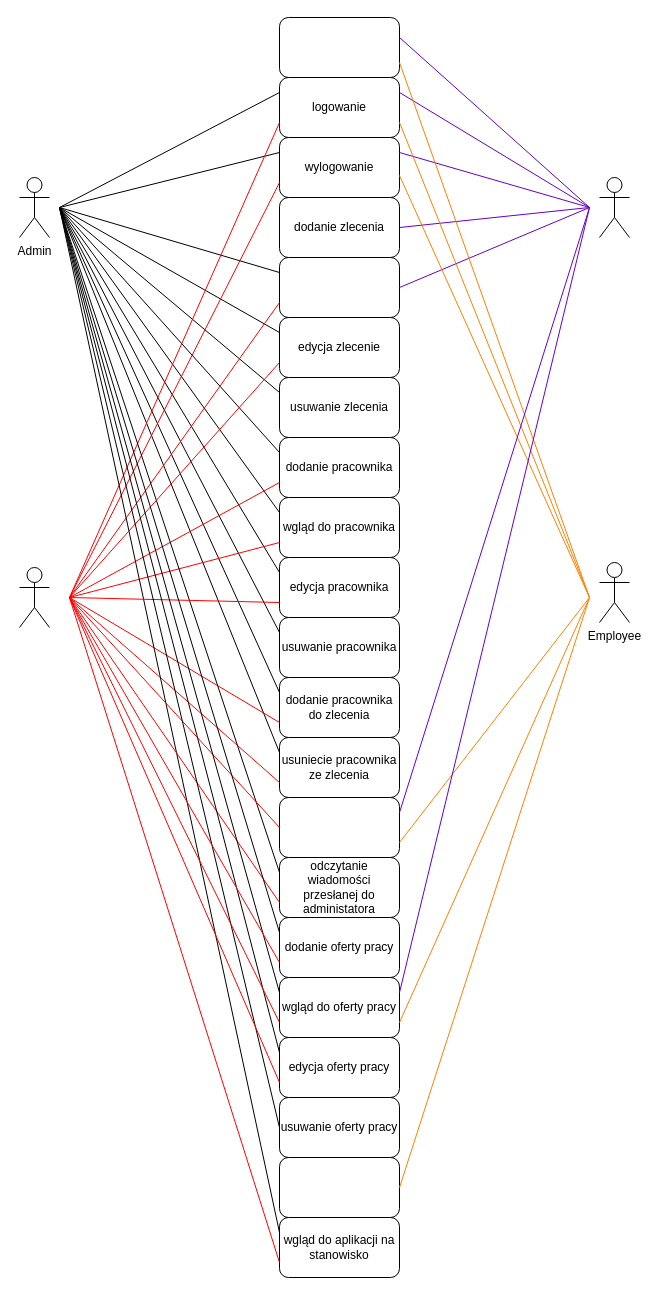
This 658x1295 diagram has some shape labels left out. Each missing label, with the centre of its shape:
Company: the point at 614,207
przesłanie aplikacji na stanowisko: the point at 339,1187
przesłanie wiadomości do administratora: the point at 339,827
rejestracja: the point at 339,47
User: the point at 34,597
wgląd do zlecenia: the point at 339,287
